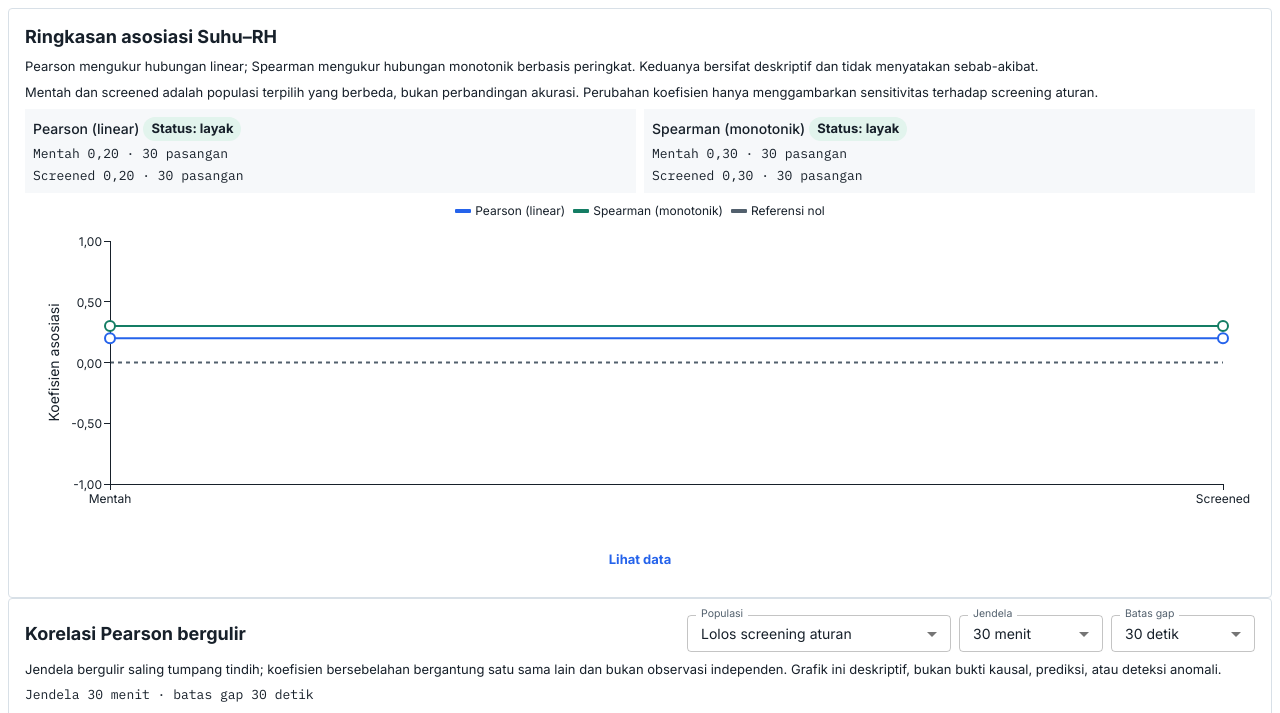
Scenario: relationship panel evidence › opens bounded data from every complete panel
The image size is (1280, 713).
What coordinates should you click on to do the following:
click the button "Lihat data"
I would click on:
 (640, 559)
Its box is [25, 537, 1255, 581].
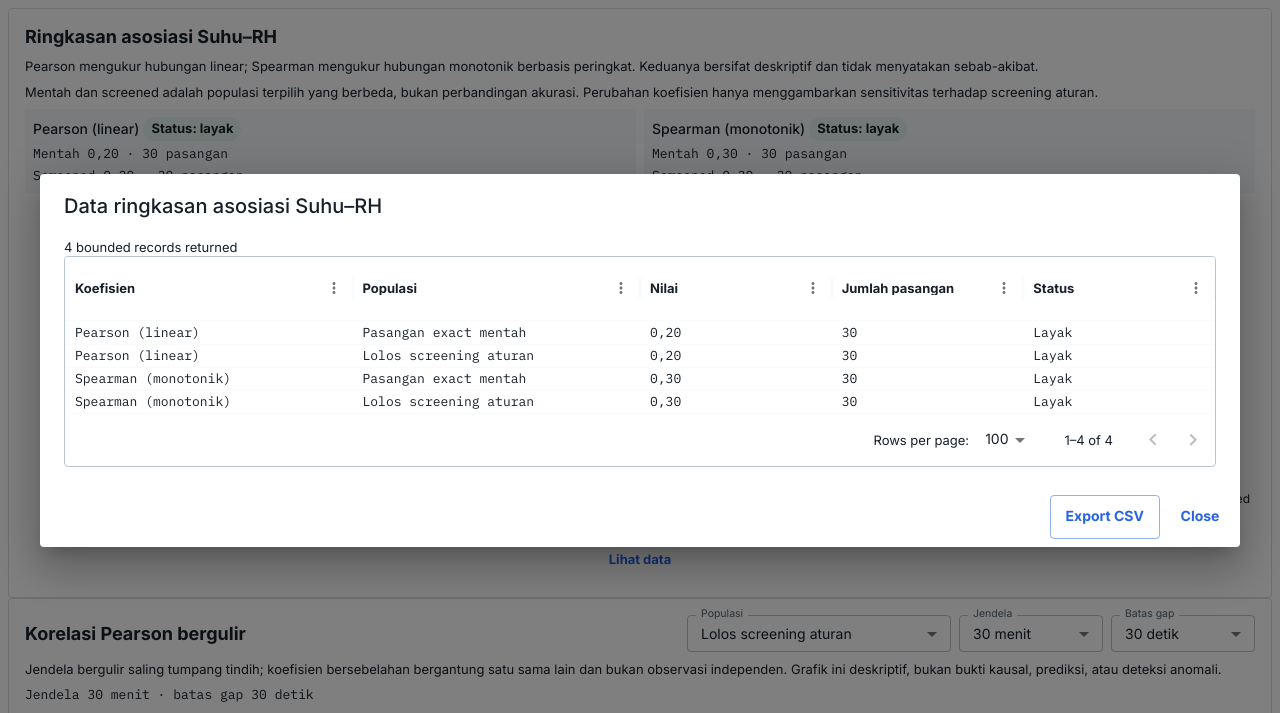
expect the dialog is shown: met, box [40, 174, 1240, 546]
